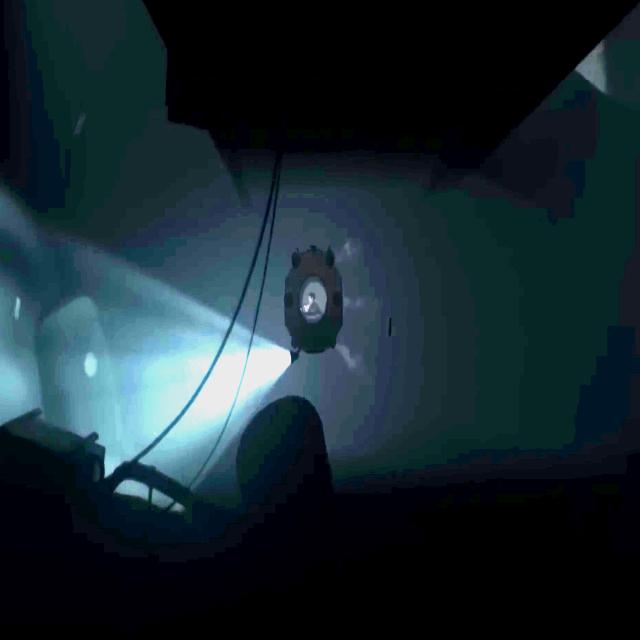boy: (305, 292, 320, 316)
submarine: (284, 244, 344, 365)
